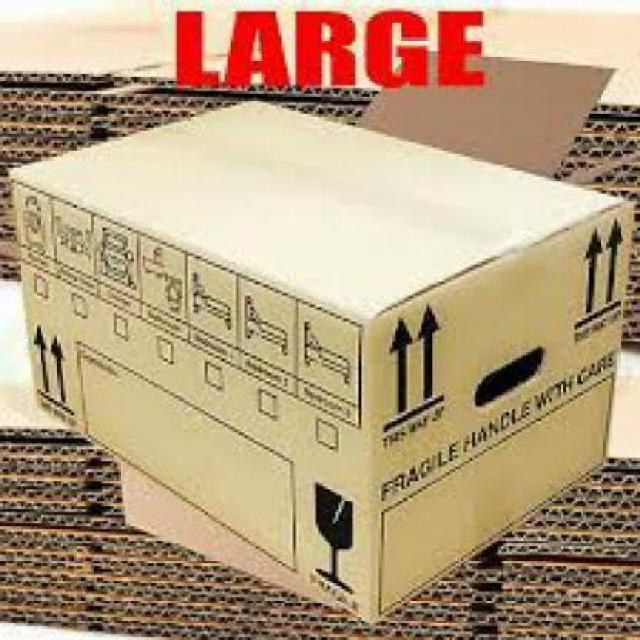box: (5, 91, 628, 624)
